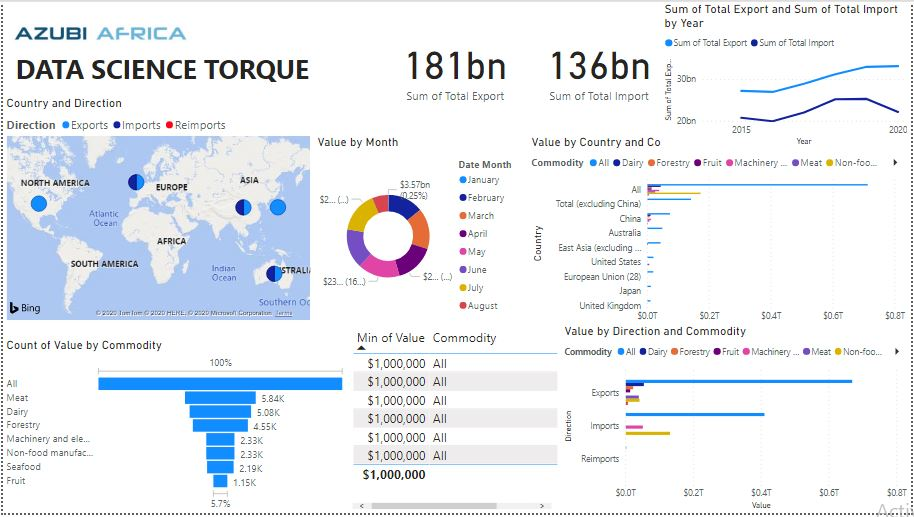

What the dashboard file says about the page in this screenshot:
{"tool":"powerbi","page":{"name":"Page 1","canvas":[1280,720],"ordinal":0},"visuals":[{"type":"map","fields":{"Category":["trade_effects.Country"],"Series":["trade_effects.Direction"]},"box":[0,132.4,438.2,321.3],"z":0},{"type":"tableEx","fields":{"Values":["Min(trade_effects.Value)","trade_effects.Commodity","trade_effects.Date.Variation.Date Hierarchy.Year"]},"box":[487.5,453.7,298.7,266.3],"z":1000},{"type":"funnel","fields":{"Category":["trade_effects.Commodity"],"Y":["CountNonNull(trade_effects.Value)"]},"box":[0,473.4,487.5,246.6],"z":2000},{"type":"textbox","box":[12.7,63.4,436.8,69],"z":3000},{"type":"card","fields":{"Values":["Sum(summary_import.Total Export)"]},"box":[534,0,205.7,186],"z":4000},{"type":"clusteredBarChart","fields":{"Series":["trade_effects.Commodity"],"Y":["Sum(trade_effects.Value)"],"Category":["trade_effects.Country"]},"box":[739.7,187.4,536.8,286],"z":5000},{"type":"clusteredBarChart","fields":{"Series":["trade_effects.Commodity"],"Y":["Sum(trade_effects.Value)"],"Category":["trade_effects.Direction"]},"box":[786.2,453.7,493.2,266.3],"z":6000},{"type":"image","box":[0,0,273.3,104.3],"z":7000},{"type":"card","fields":{"Values":["Sum(summary_import.Total Import)"]},"box":[726.4,1.3,200.2,186.1],"z":8000},{"type":"lineChart","fields":{"Category":["summary_import.Year"],"Y":["Sum(summary_import.Total Export)","Sum(summary_import.Total Import)"]},"box":[927.1,0,352.3,207.1],"z":9000},{"type":"donutChart","fields":{"Y":["Sum(trade_effects.Value)"],"Category":["trade_effects.Date.Variation.Date Hierarchy.Month"]},"box":[438.2,187.4,301.5,266.3],"z":10000}]}

Visuals, with their boxes in screenshot pixels (x1, y1, x2, y2), scaled from the page's 1280x720 canvas onto the 914x517 screenshot:
map - trade_effects.Country x trade_effects.Direction: 0/95/313/326
tableEx - Min(trade_effects.Value) x trade_effects.Commodity: 348/326/561/516
funnel - trade_effects.Commodity x CountNonNull(trade_effects.Value): 0/340/348/516
textbox: 9/46/321/95
card - Sum(summary_import.Total Export): 381/0/528/134
clusteredBarChart - trade_effects.Commodity x Sum(trade_effects.Value): 528/135/912/340
clusteredBarChart - trade_effects.Commodity x Sum(trade_effects.Value): 561/326/913/516
image: 0/0/195/75
card - Sum(summary_import.Total Import): 519/1/662/135
lineChart - summary_import.Year x Sum(summary_import.Total Export): 662/0/913/149
donutChart - Sum(trade_effects.Value) x trade_effects.Date.Variation.Date Hierarchy.Month: 313/135/528/326
